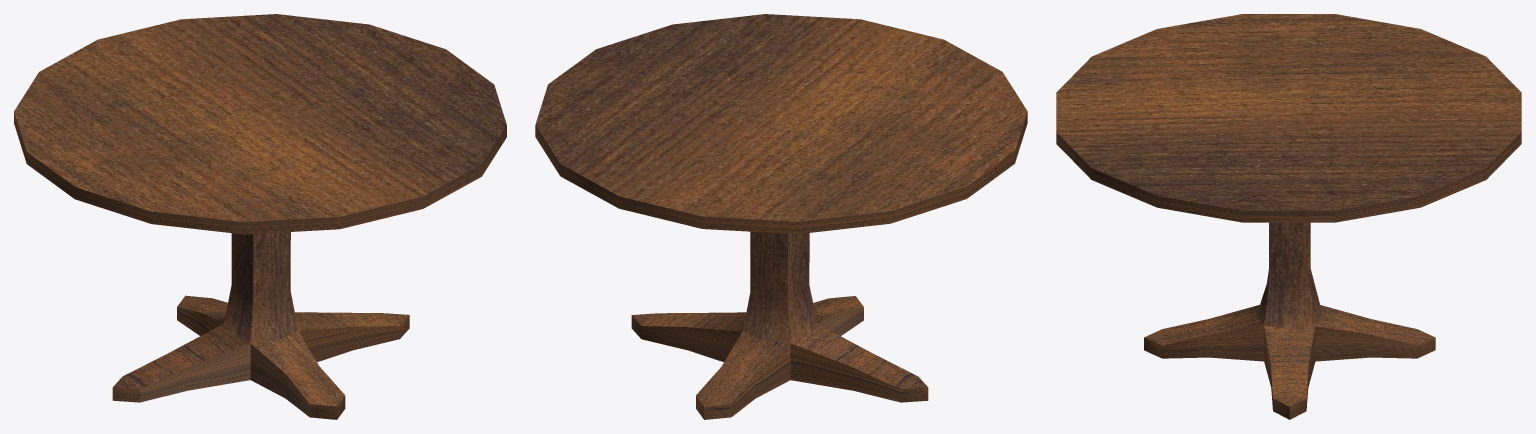
File: CoffeeTable.fbx
The picture shows the model from 3 angles, left to right: view 1: azimuth 30°, elevation 25°; view 2: azimuth 150°, elevation 25°; view 3: azimuth 270°, elevation 25°; orthographic projection. The views are drawn at different scales.
Parts seen in each view (by area): view 1: Cube.023; view 2: Cube.023; view 3: Cube.023.
Boxes of the visible parts, bbox=[...] form: Cube.023: bbox=[14, 14, 506, 419]; Cube.023: bbox=[535, 14, 1027, 419]; Cube.023: bbox=[1056, 14, 1521, 419].
Bounding box in the file's own units: 251 × 141 × 251.
